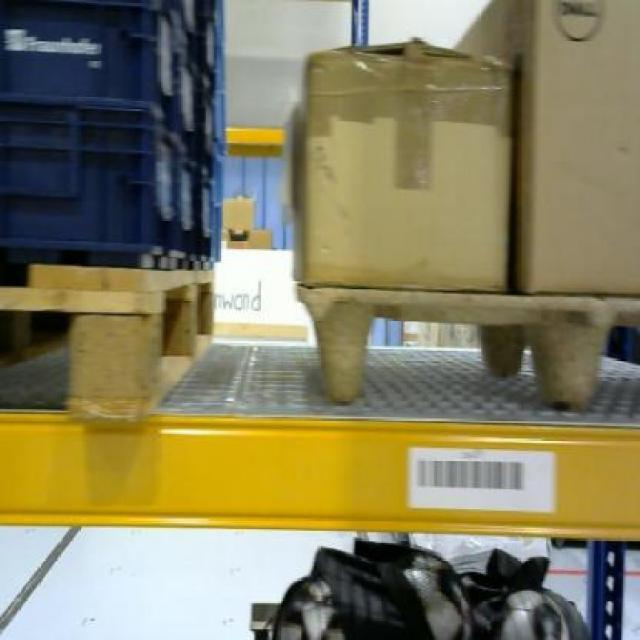box: (292, 36, 516, 289), (522, 1, 640, 294)
